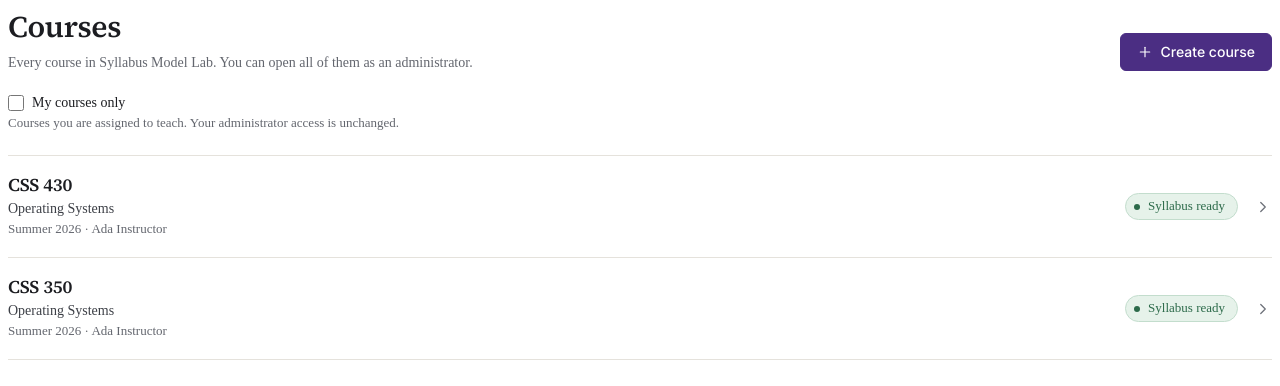
Scenario: ProfessorCoursesPage › My courses only (administrators) › says so when nothing is assigned, rather than looking like there are no courses
What coordinates should you click on to do the following:
click the checkbox labelled "My courses only"
I would click on:
 (16, 103)
Its box is [8,95,24,111].
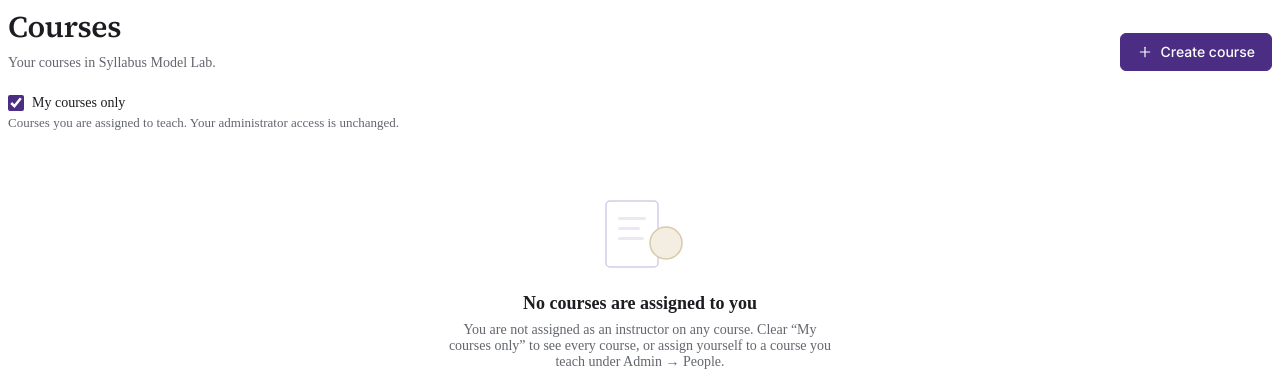
Now the text "No courses are assigned to you" is shown, box [523,293,757,314]
